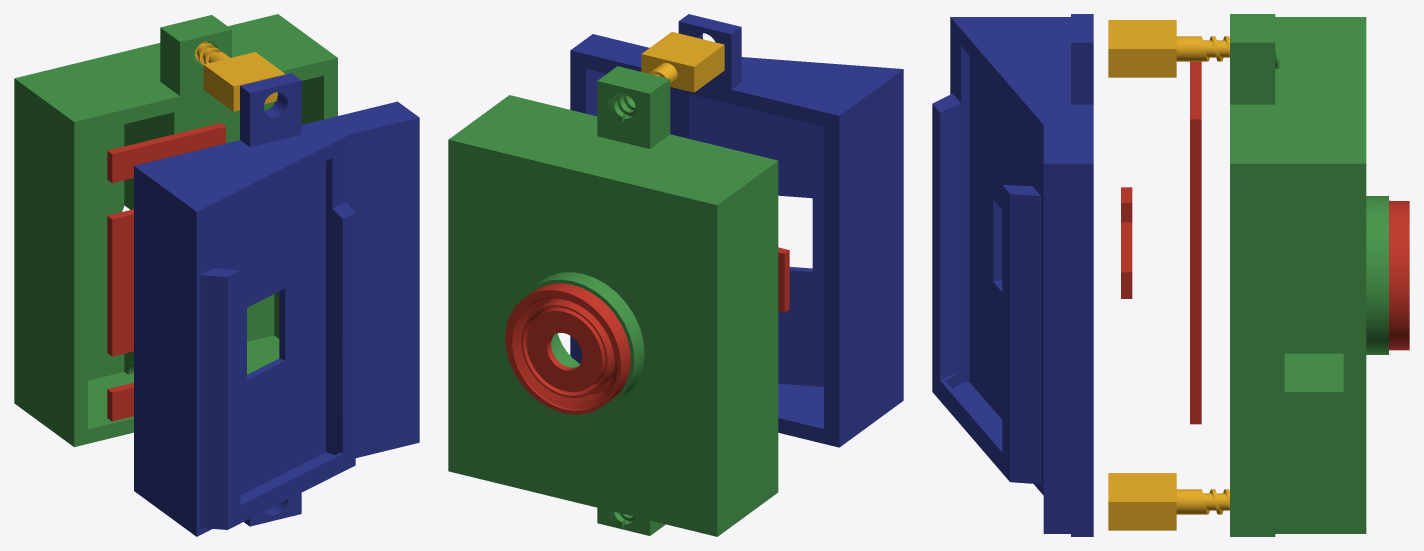
Rendered from Solar Enclosure (Assembly) 2.fbx.
3 renders of one model, left to right at view 1: azimuth 30°, elevation 25°; view 2: azimuth 150°, elevation 25°; view 3: azimuth 270°, elevation 25°, orthographic. The views are drawn at different scales.
Parts seen in each view (by area): view 1: Body1 (×4); view 2: Body1 (×4), Plain; view 3: Body1 (×6), Plain.
Part boxes in pixels (x1,y1,x2,y2): Body1 (×4): [14, 14, 419, 536]; Body1 (×4): [448, 14, 903, 536]; Plain: [505, 283, 630, 414]; Body1 (×6): [932, 14, 1388, 536]; Plain: [1389, 200, 1409, 350].
Size of the model in its own units: 76.38 by 120 by 105.
